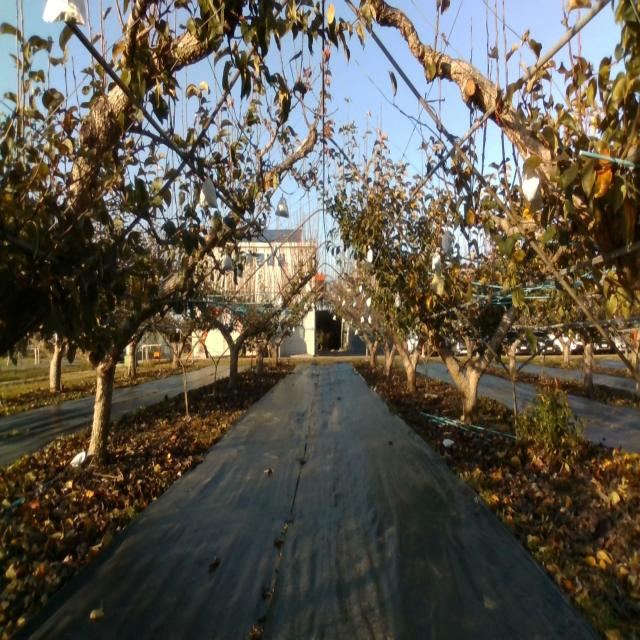pearbags: (199, 176, 218, 208), (523, 176, 541, 200), (276, 195, 290, 218), (442, 232, 452, 254), (222, 253, 234, 271)
